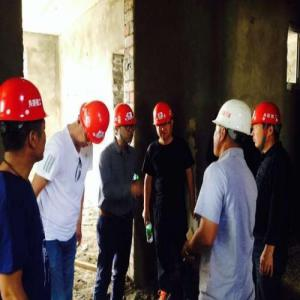red: (2, 77, 48, 168), (74, 99, 111, 149), (251, 100, 284, 155), (112, 102, 138, 145), (152, 102, 177, 141)
white: (211, 95, 254, 161)
